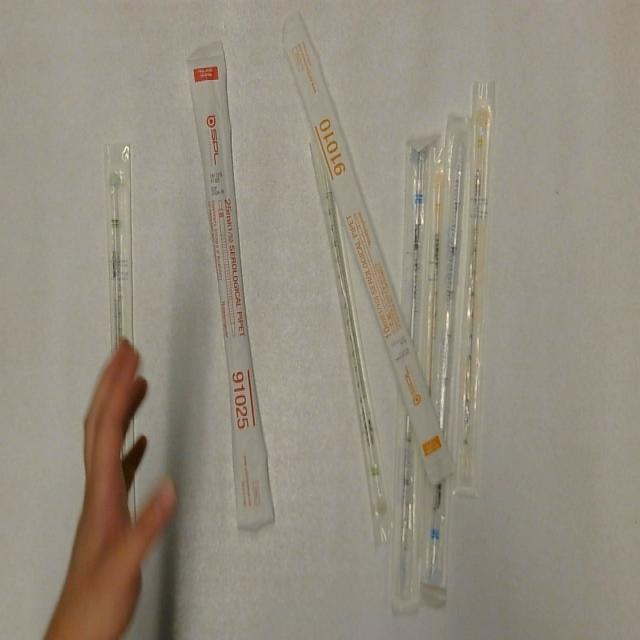Serelogical Pipet 1 mL: (454, 76, 500, 500), (422, 143, 452, 391)
Serelogical Pipet 10 mL: (282, 5, 458, 488)
Serelogical Pipet 2 mL: (306, 138, 400, 547), (102, 139, 136, 363)
Serelogical Pipet 25 mL: (183, 38, 279, 537)
Serelogical Pipet 5 mL: (389, 128, 442, 616), (420, 112, 474, 590)
